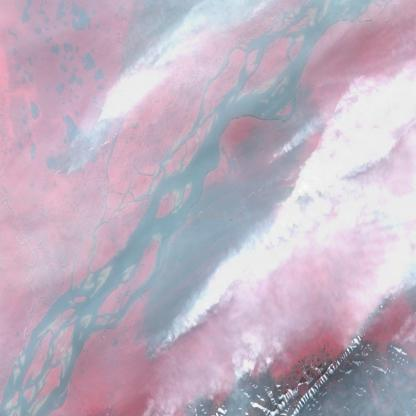fire: (134, 174, 311, 362), (177, 370, 263, 416)
